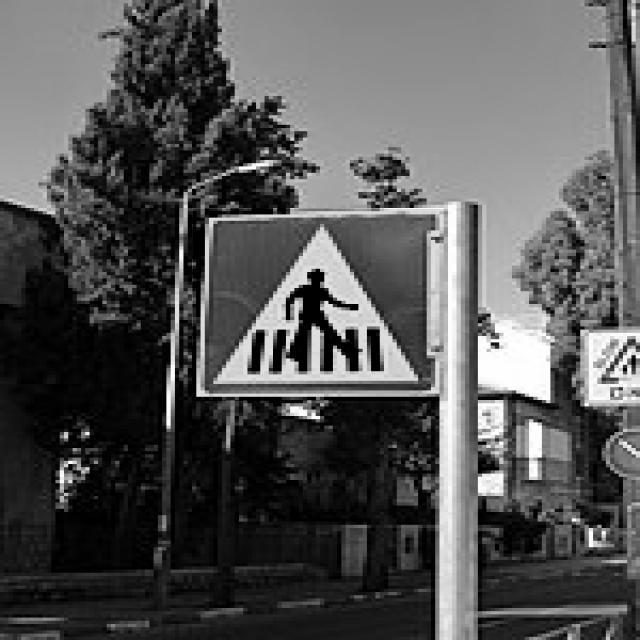pedestrian crossing: (210, 220, 424, 385)
